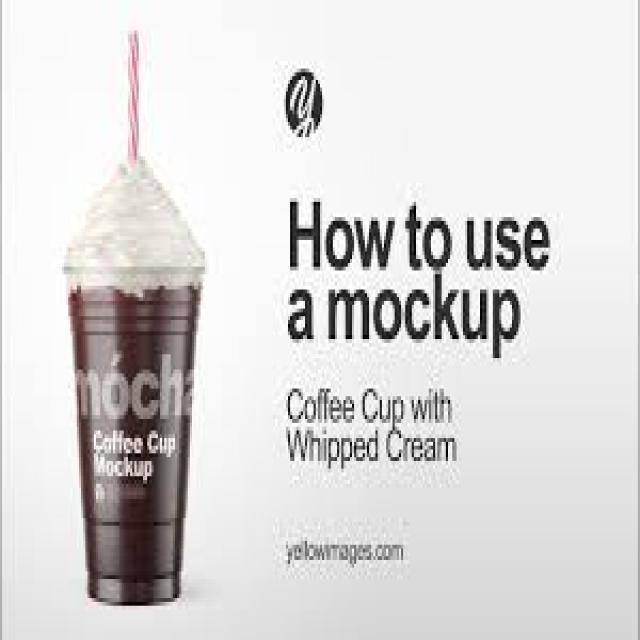cup: (72, 288, 200, 602)
